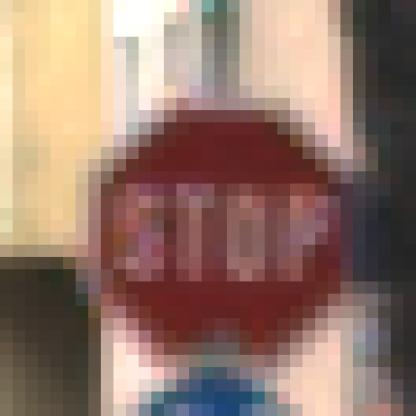Stop: (100, 102, 344, 360)
